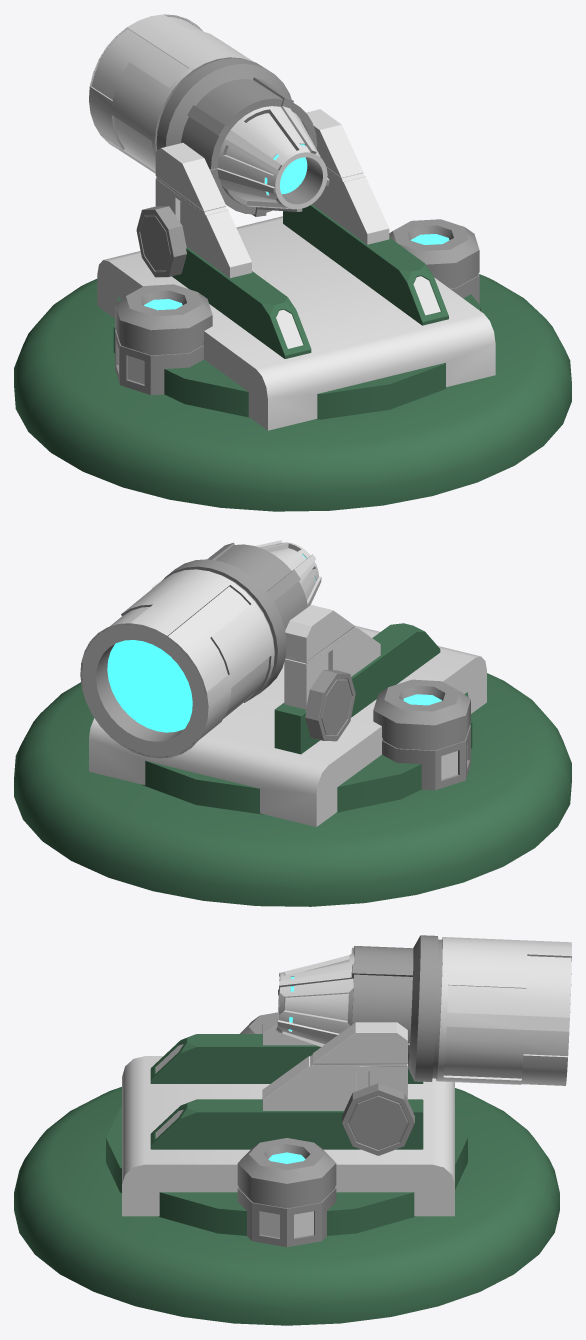
Rendered from Turrent.fbx.
3 renders of one model, top to bottom at view 1: azimuth 30°, elevation 25°; view 2: azimuth 150°, elevation 25°; view 3: azimuth 270°, elevation 25°, orthographic. The views are drawn at different scales.
Visible parts, largest first — view 1: Base, Body 3, Head, Bddy 2, Body 5, Body1, Body 6, Body 4; view 2: Base, Head, Body 3, Body 5, Body 6, Body1, Bddy 2, Body 4; view 3: Base, Head, Body 3, Bddy 2, Body 5, Body1, Body 6, Body 4.
Boxes of the visible parts, <box> form: Base: <box>14,274,571,511</box>; Body 3: <box>97,216,495,430</box>; Head: <box>89,14,329,216</box>; Bddy 2: <box>172,204,448,358</box>; Body 5: <box>115,219,479,394</box>; Body1: <box>155,109,389,278</box>; Body 6: <box>113,294,480,419</box>; Body 4: <box>136,206,186,277</box>; Base: <box>14,673,571,906</box>; Head: <box>80,540,321,758</box>; Body 3: <box>89,625,486,826</box>; Body 5: <box>373,679,470,790</box>; Body 6: <box>141,692,472,814</box>; Body1: <box>151,579,380,709</box>; Bddy 2: <box>274,623,440,754</box>; Body 4: <box>305,670,355,741</box>; Base: <box>14,1087,559,1325</box>; Head: <box>276,935,571,1085</box>; Body 3: <box>122,1056,454,1216</box>; Bddy 2: <box>150,1034,423,1149</box>; Body 5: <box>237,1012,336,1247</box>; Body1: <box>262,1013,407,1110</box>; Body 6: <box>106,1108,467,1235</box>; Body 4: <box>342,1083,414,1155</box>.
Size of the model in its own units: 302 by 165 by 309.
